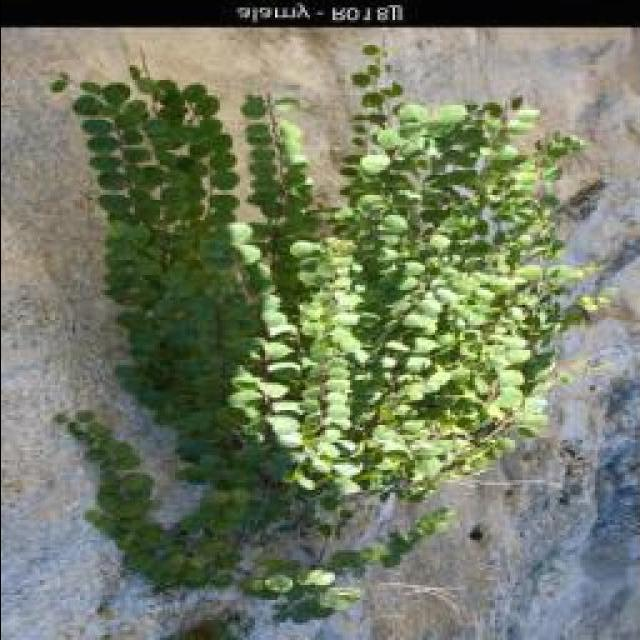Crack: (30, 30, 637, 637)
